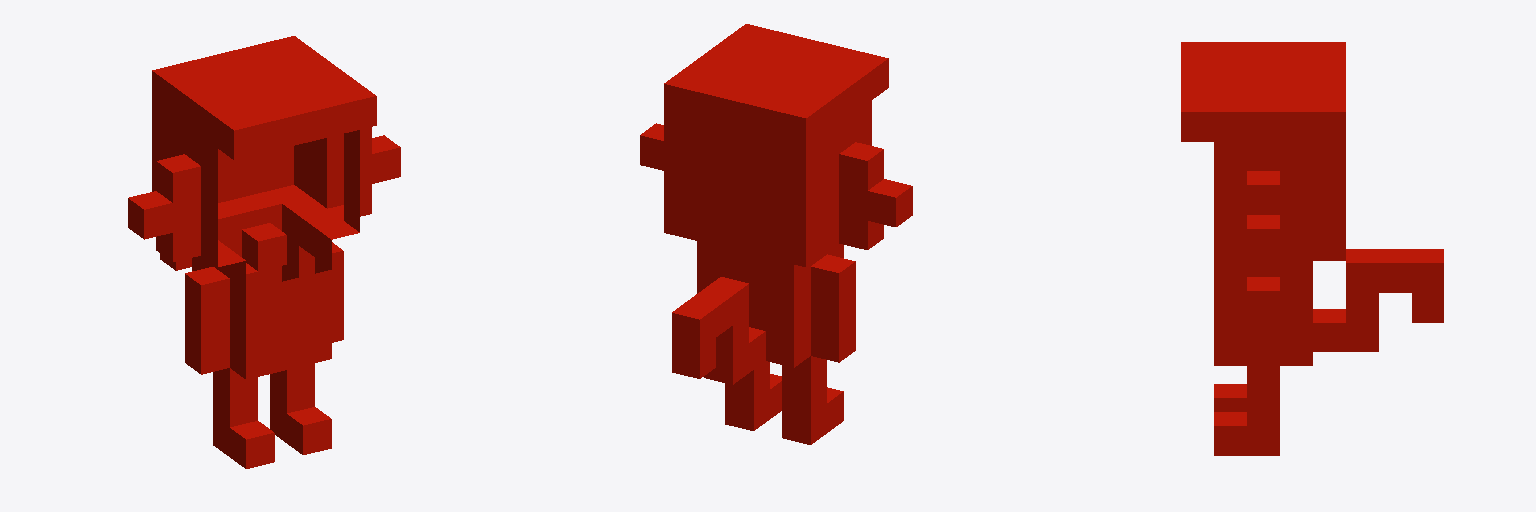
3 renders of one model, left to right at view 1: azimuth 30°, elevation 25°; view 2: azimuth 150°, elevation 25°; view 3: azimuth 270°, elevation 25°, orthographic.
Parts seen in each view (by area): view 1: object 1; view 2: object 1; view 3: object 1.
Boxes of the visible parts, x1=… form: object 1: x1=128, y1=36, x2=400, y2=468; object 1: x1=640, y1=24, x2=912, y2=444; object 1: x1=1181, y1=42, x2=1443, y2=455.
Size of the model in its own units: 0.9 by 1.2 by 1.
1 materials, 1 textured.